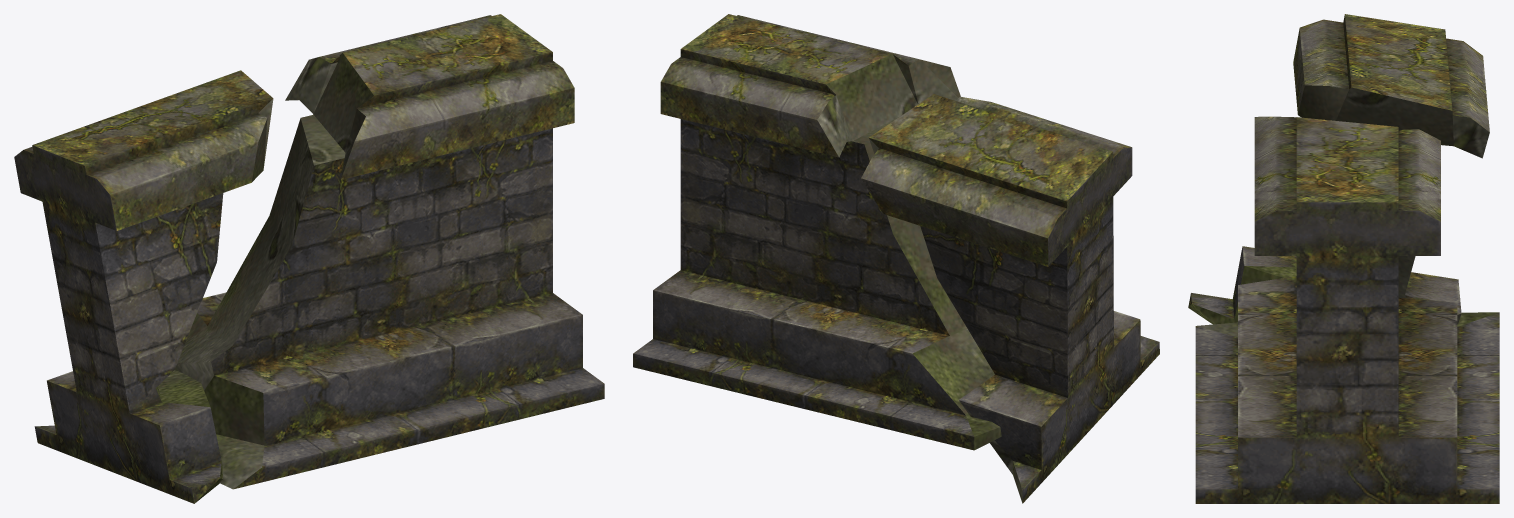
The model's file is 4009_Item_qiang_broken_3.FBX.
3 views of the same model, side by side, from view 1: azimuth 30°, elevation 25°; view 2: azimuth 150°, elevation 25°; view 3: azimuth 270°, elevation 25° (orthographic). The views are drawn at different scales.
Parts seen in each view (by area): view 1: 4009_Item_qiang_broken_3; view 2: 4009_Item_qiang_broken_3; view 3: 4009_Item_qiang_broken_3.
Part boxes in pixels (x1,y1,x2,y2): 4009_Item_qiang_broken_3: (14, 14, 604, 503); 4009_Item_qiang_broken_3: (633, 14, 1159, 503); 4009_Item_qiang_broken_3: (1188, 14, 1499, 503).
Size of the model in its own units: 644 by 499 by 400.
